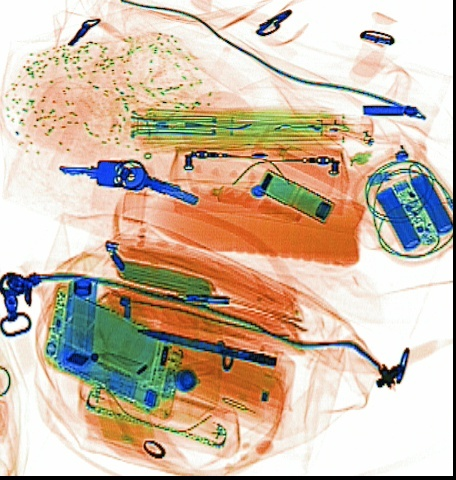powerbank: (358, 152, 450, 253)
